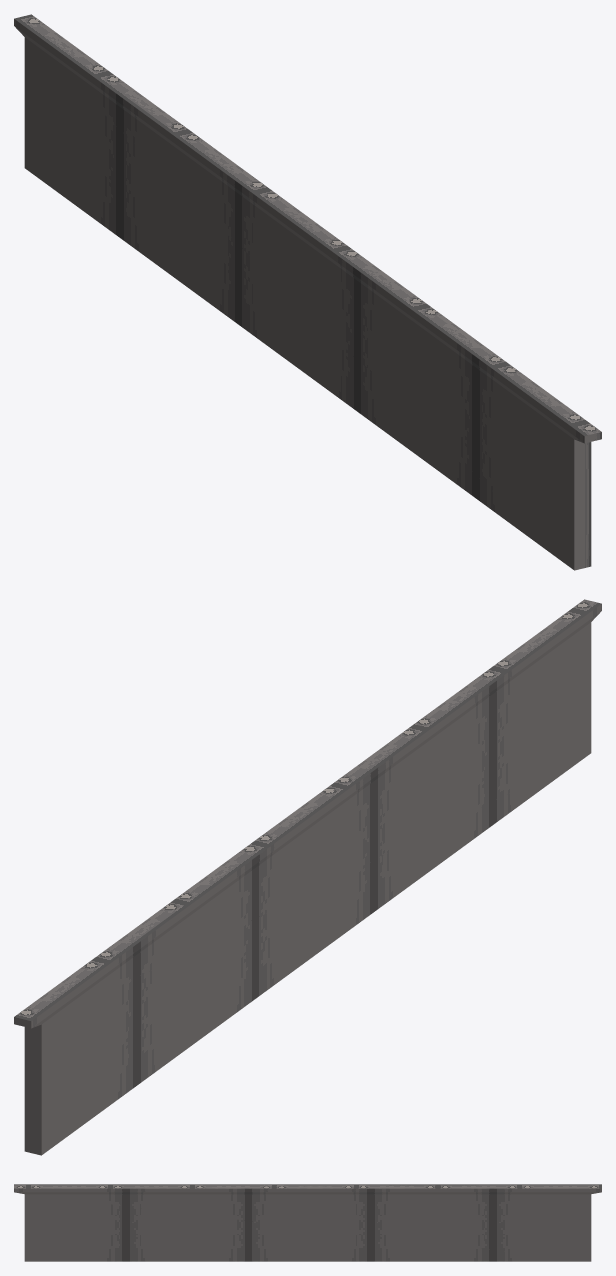
The model's file is Wall2.fbx.
The picture shows the model from 3 angles, top to bottom: view 1: azimuth 30°, elevation 25°; view 2: azimuth 150°, elevation 25°; view 3: azimuth 270°, elevation 25°; orthographic projection. The views are drawn at different scales.
Visible parts, largest first — view 1: Cube.014; view 2: Cube.014; view 3: Cube.014.
Boxes of the visible parts, left/top/right/bottom form: Cube.014: left=14, top=14, right=601, bottom=570; Cube.014: left=14, top=599, right=601, bottom=1155; Cube.014: left=14, top=1184, right=601, bottom=1261.
Bounding box in the file's own units: 57.75 × 448 × 3262.
1 material, 1 textured.
